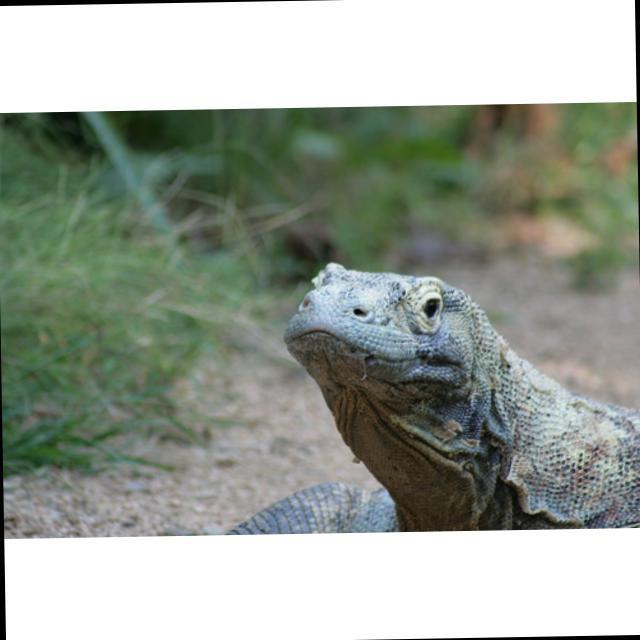KomodoDragon: (219, 255, 640, 532)
